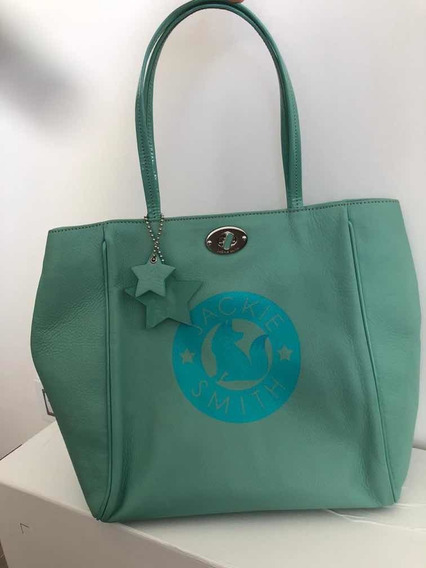cartera: (28, 1, 424, 527)
